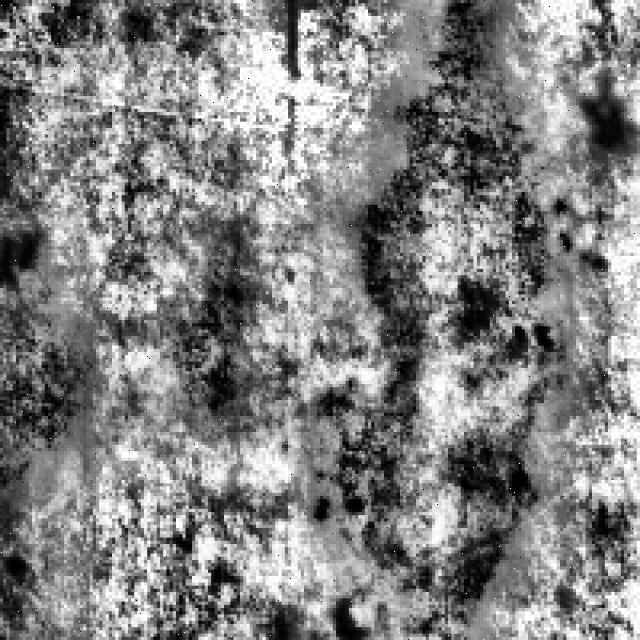Patches: (576, 64, 640, 157)
Scratches: (327, 0, 576, 630), (3, 215, 138, 502), (150, 202, 294, 444)
